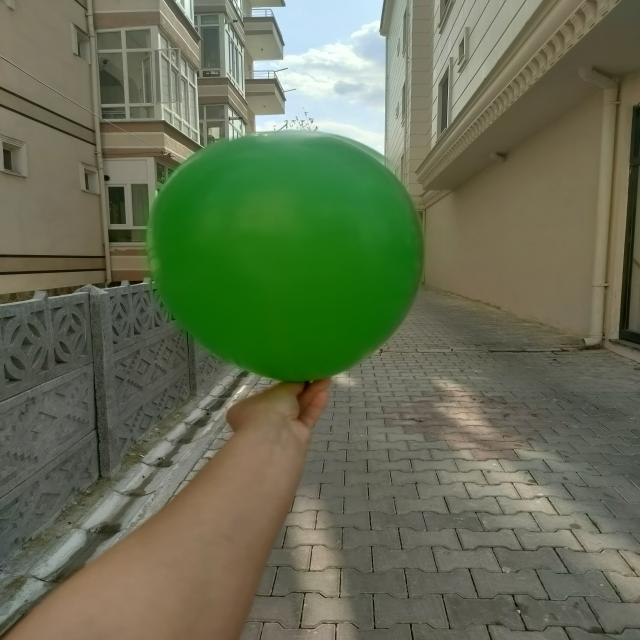green: (151, 133, 426, 384)
